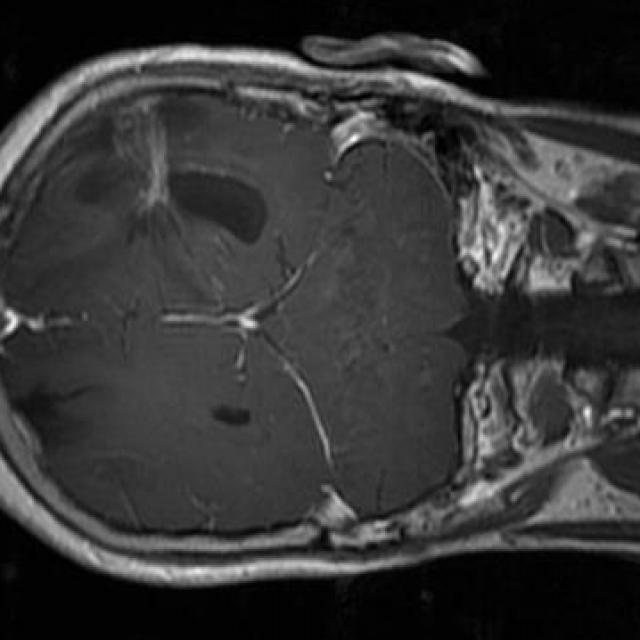glioma: (62, 96, 267, 246)
